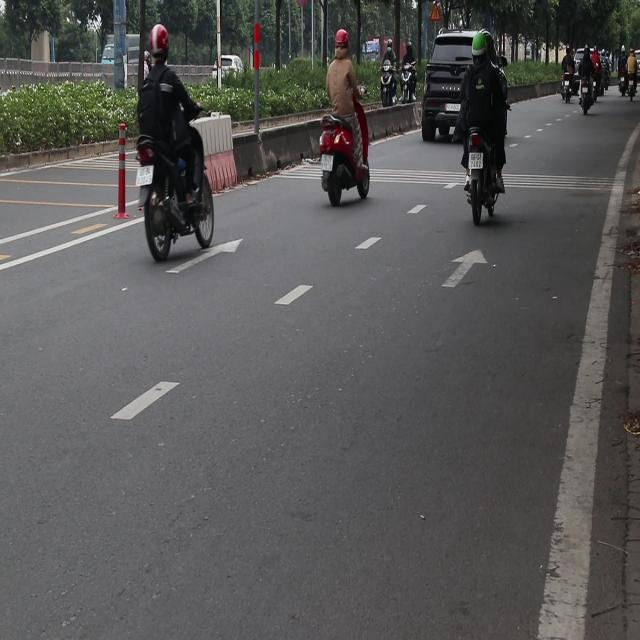car: (421, 30, 490, 142), (206, 55, 256, 91)
motorbike: (134, 131, 219, 254), (318, 112, 370, 205), (462, 132, 506, 225), (379, 63, 401, 110), (396, 52, 414, 106), (578, 79, 592, 131), (561, 67, 577, 104), (591, 72, 600, 108), (620, 67, 626, 101), (631, 80, 636, 108)
truck: (98, 21, 138, 83)
